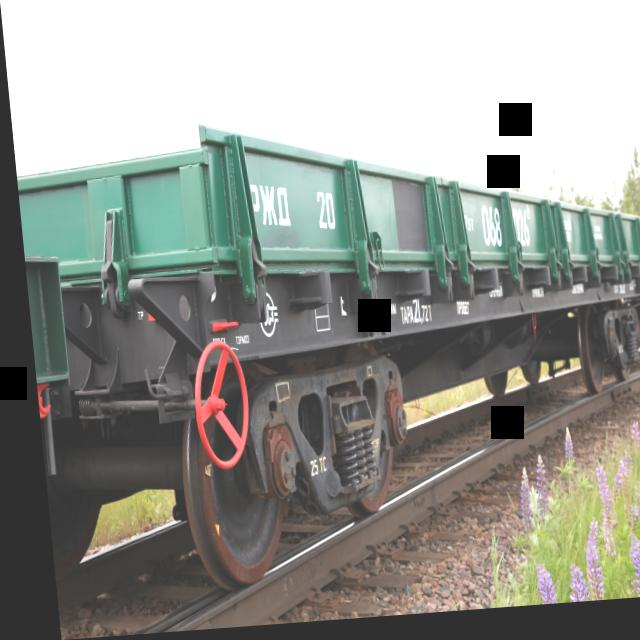flatcar: (54, 239, 640, 598)
